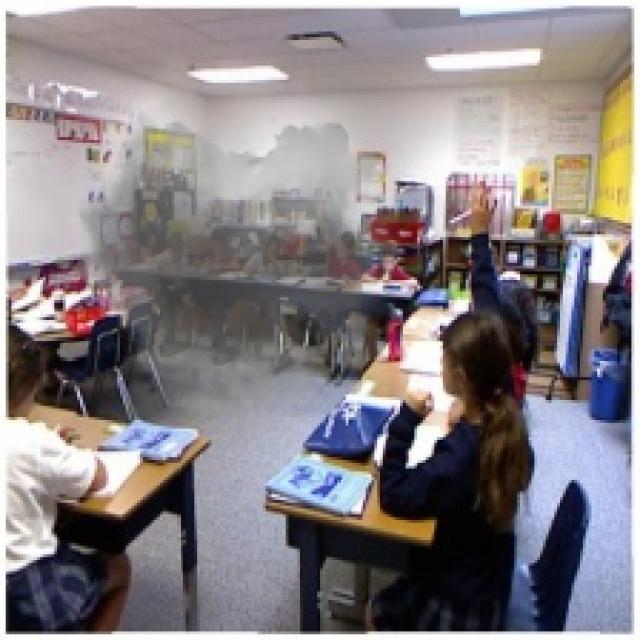Smoke: (51, 42, 403, 428)
